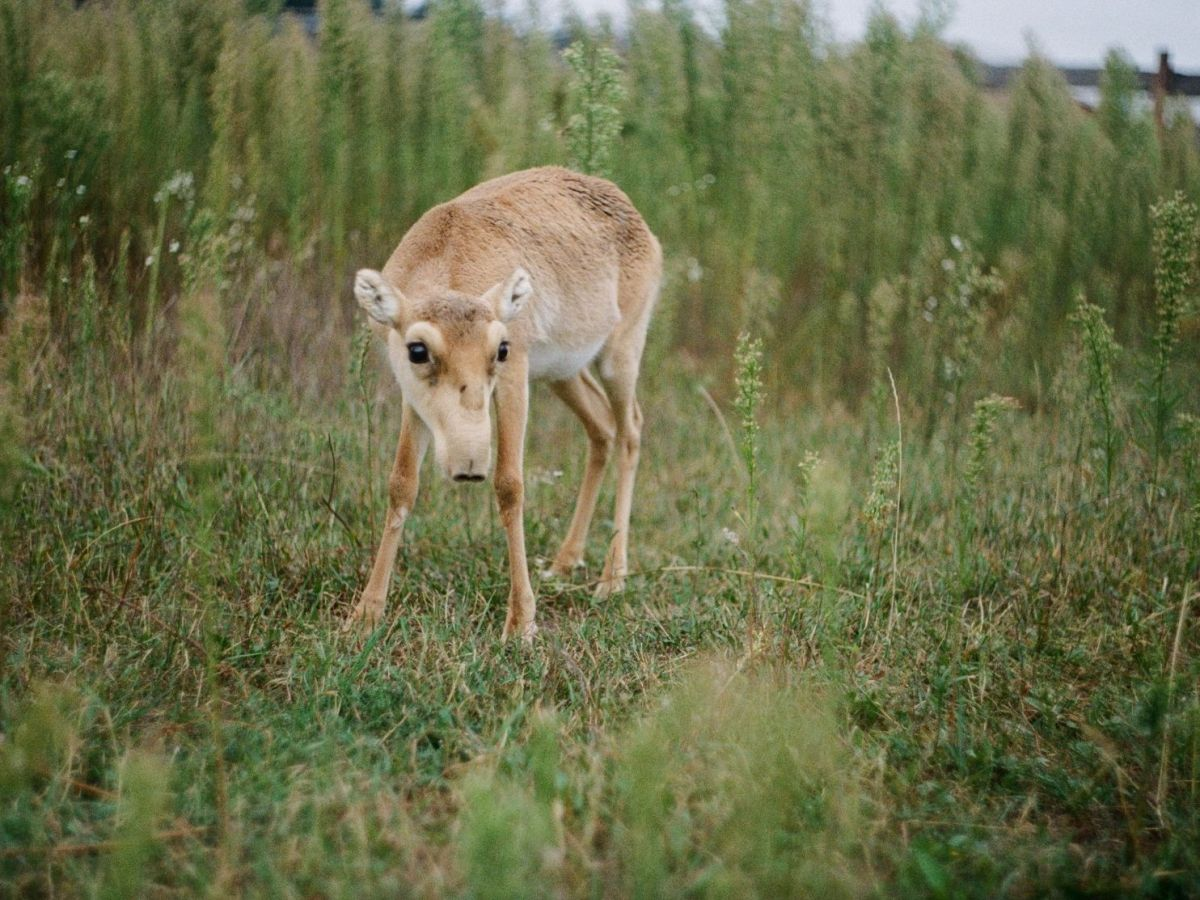saiga: (330, 158, 672, 626)
